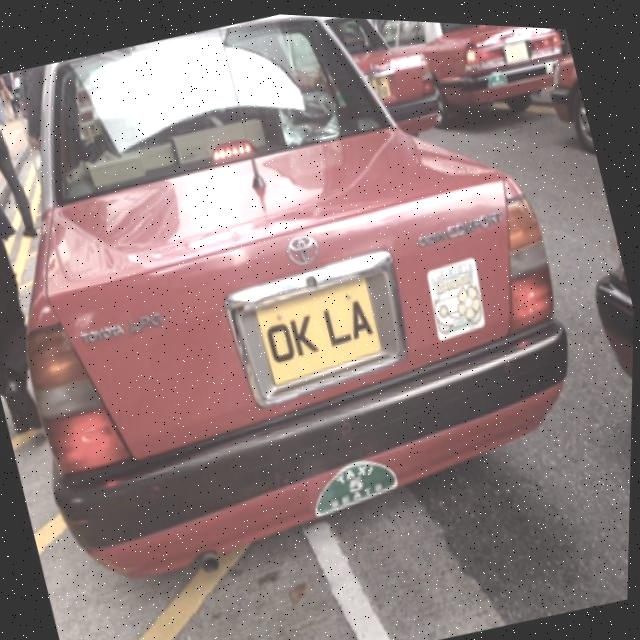license_plate: (250, 274, 386, 380)
